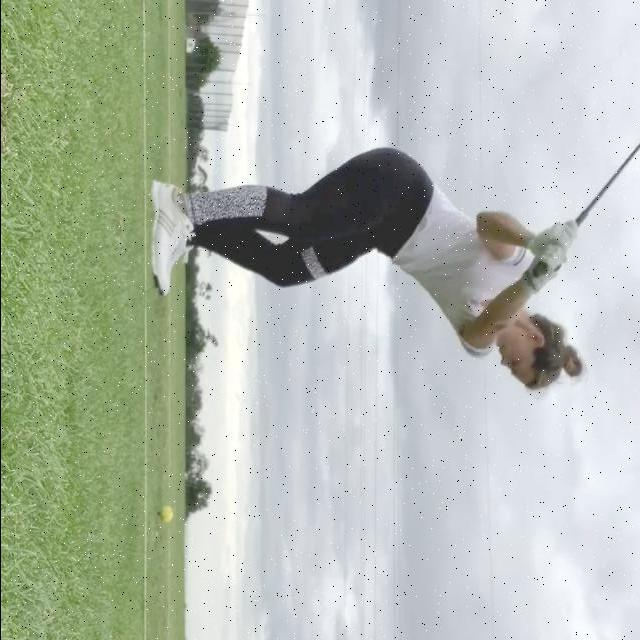ClubHandle: (530, 142, 640, 279)
GolfBall: (158, 502, 173, 524)
